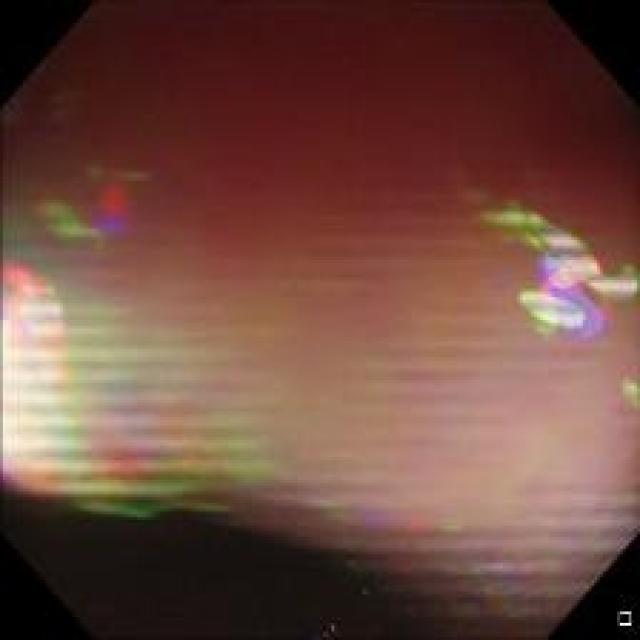color misalignment: (8, 6, 632, 625), (6, 264, 165, 514), (382, 502, 611, 618), (491, 196, 632, 349), (40, 169, 134, 269)
contrast: (15, 490, 440, 632)
specularity: (11, 274, 158, 508)
